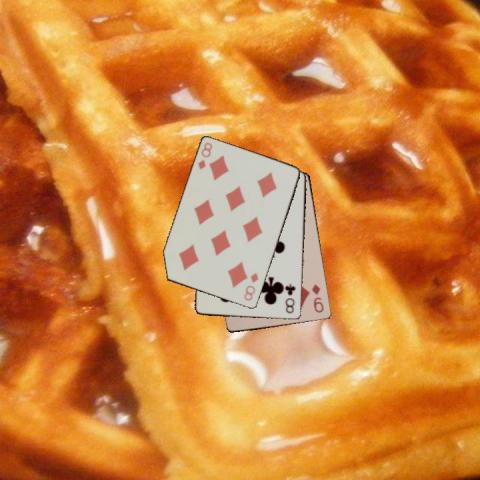8c: (283, 281, 296, 315)
8d: (241, 270, 260, 303), (195, 140, 214, 172)
9d: (310, 281, 326, 314)
